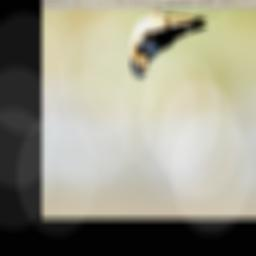Swallow: (128, 4, 222, 79)
